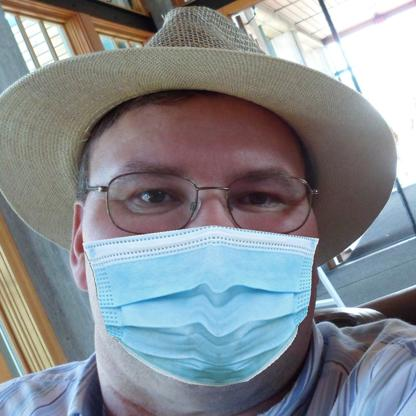mask: (79, 229, 321, 387)
